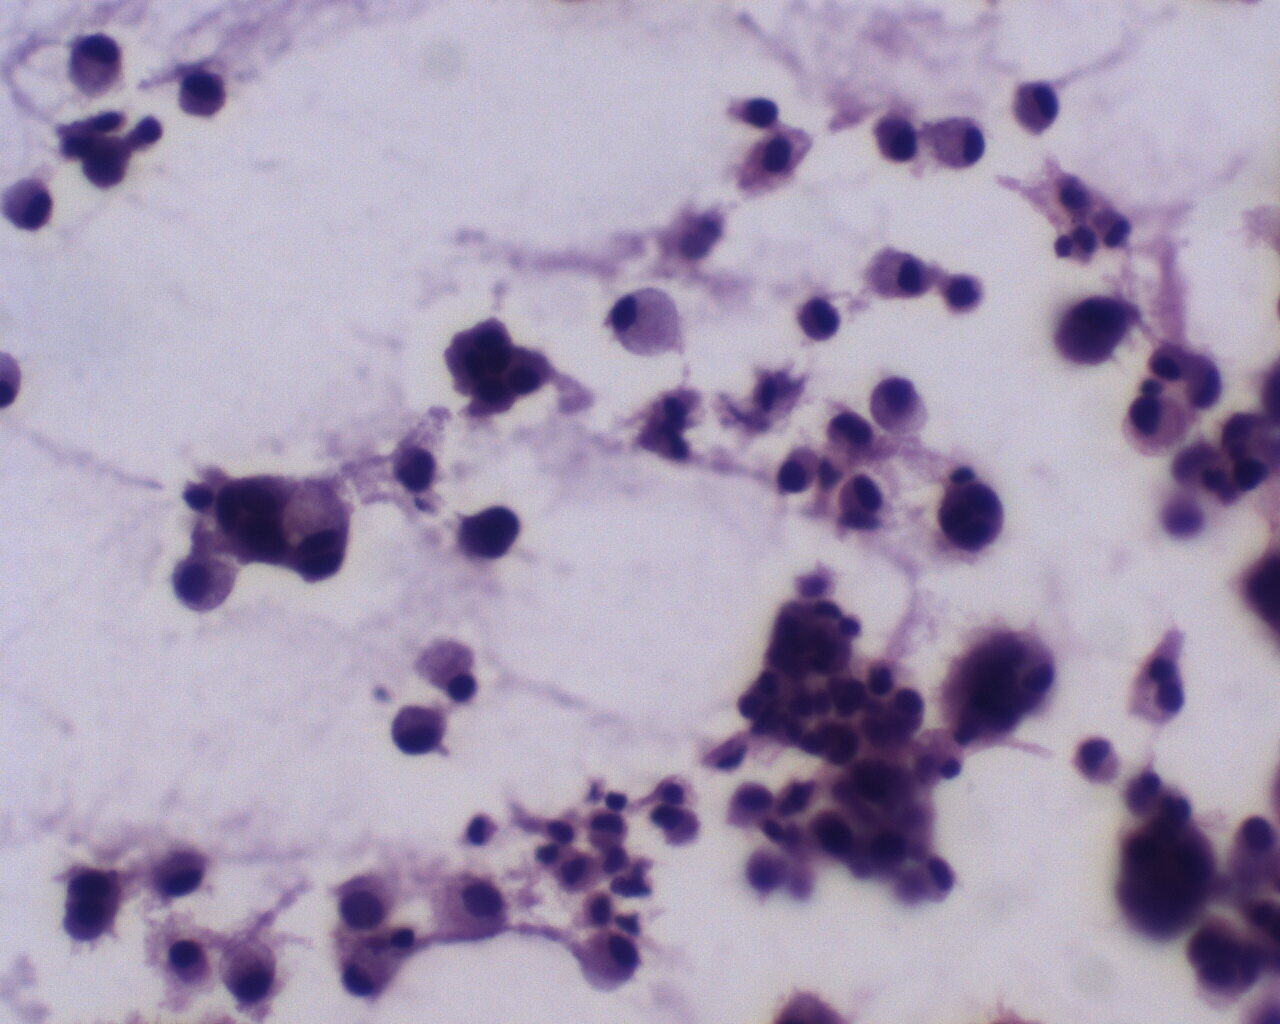ab: (937, 480, 1005, 554)
histo: (604, 285, 688, 359)
meso: (428, 874, 515, 942), (571, 931, 641, 995), (171, 556, 239, 619), (930, 110, 991, 174), (1013, 77, 1066, 141)
